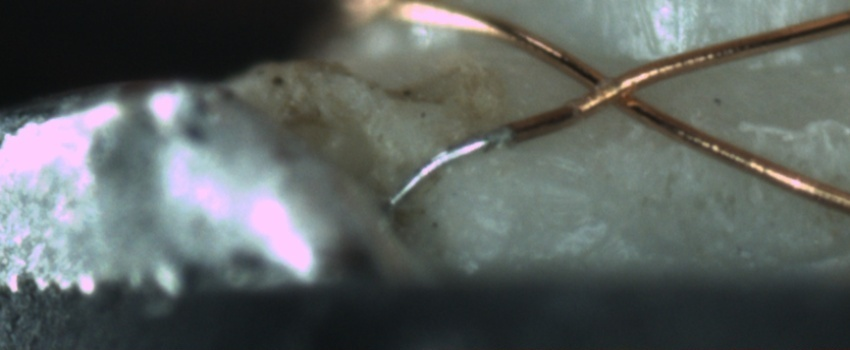CL: (567, 56, 659, 118)
TS: (389, 127, 512, 207)
TTCW: (388, 113, 555, 203)
